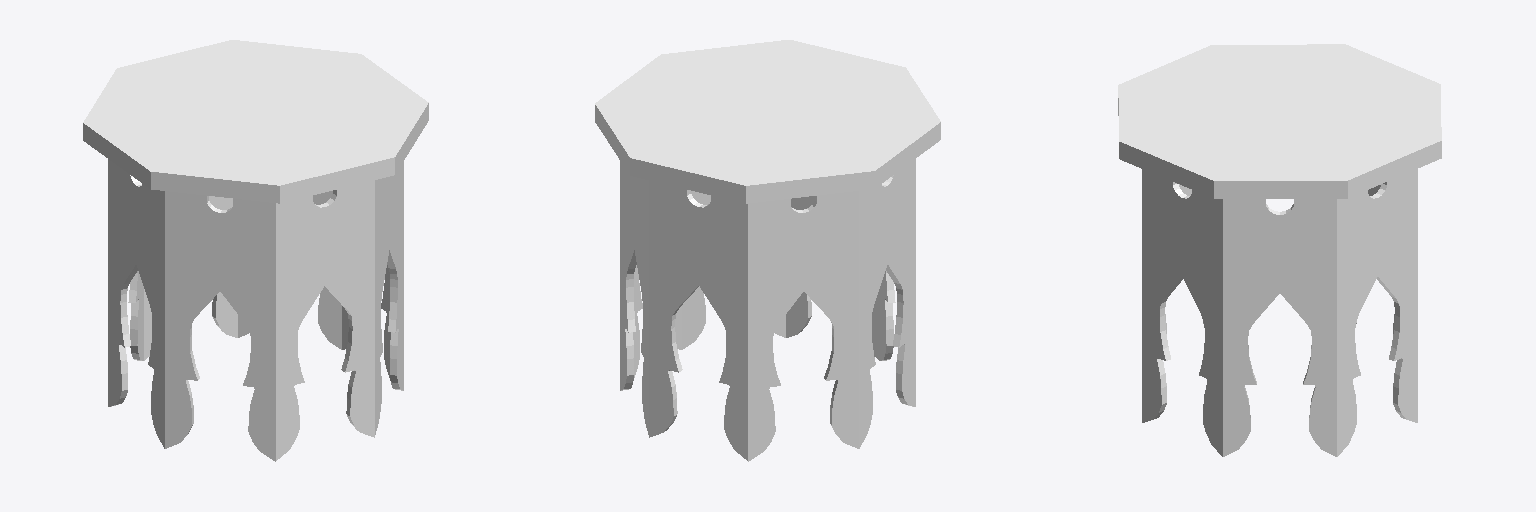
File: roman_coffe_table.obj
The picture shows the model from 3 angles: view 1: azimuth 30°, elevation 25°; view 2: azimuth 150°, elevation 25°; view 3: azimuth 270°, elevation 25°; orthographic projection.
Visible parts, largest first — view 1: Line001; view 2: Line001; view 3: Line001.
Part boxes in pixels (x1,y1,x2,y2): Line001: (83,40,428,461); Line001: (595,40,940,461); Line001: (1118,44,1441,456).
Bounding box in the file's own units: 59.63 × 58.3 × 59.63.